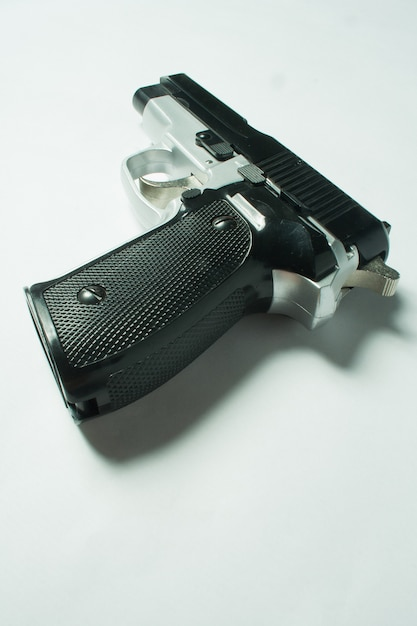gun: (23, 72, 401, 425)
